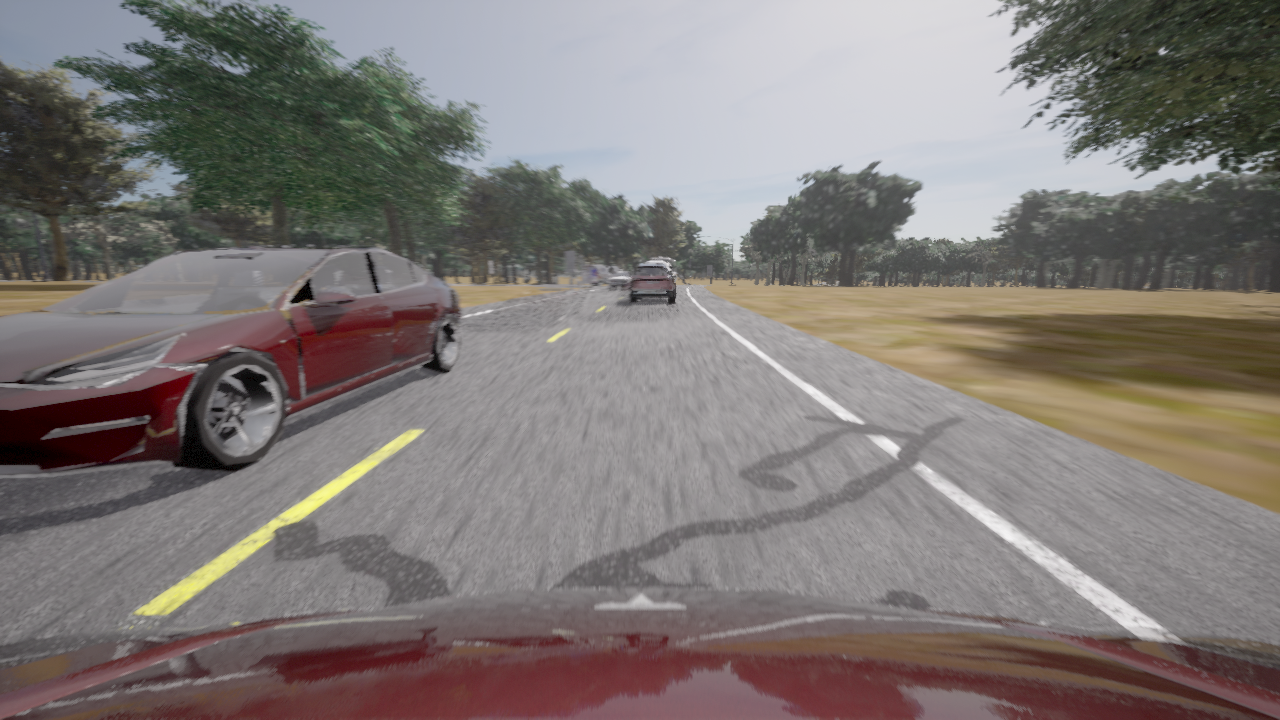cyclist: (0, 588, 1279, 719), (0, 246, 460, 477), (630, 264, 676, 303), (579, 264, 623, 286), (606, 271, 631, 289), (646, 261, 674, 272), (650, 260, 675, 270)
